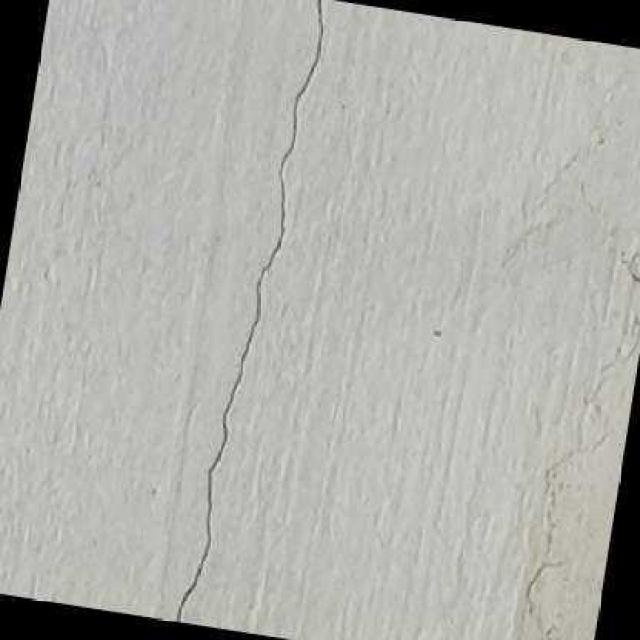D00: (174, 0, 321, 621)
